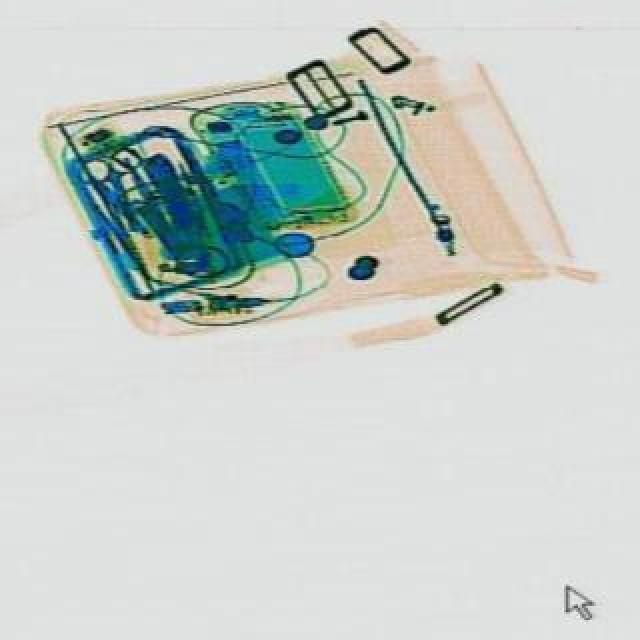pliers: (68, 142, 162, 238)
